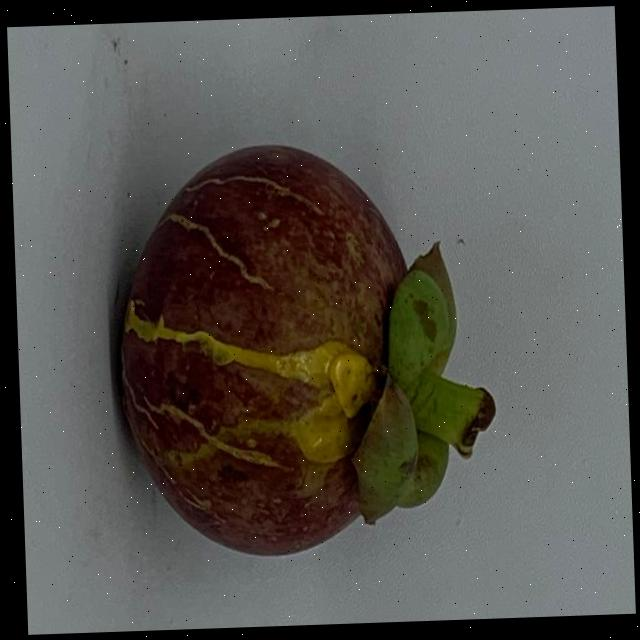mangosteen: (105, 132, 513, 564)
